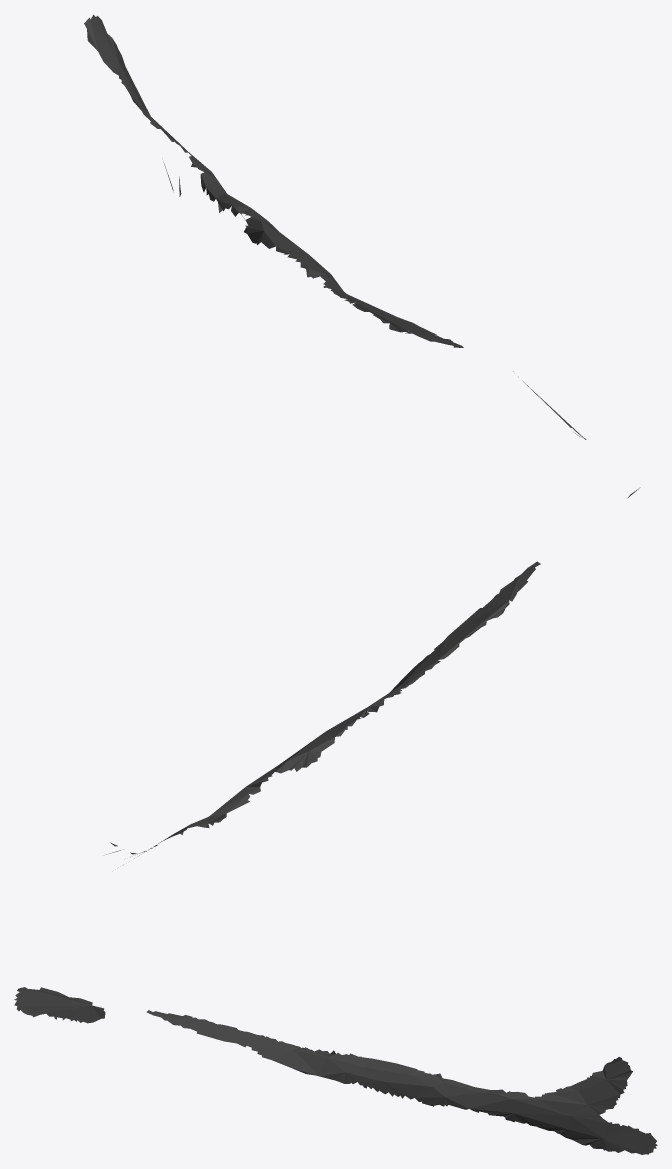
The model's file is vein_lat_dig_palmar.glb.
3 renders of one model, top to bottom at view 1: azimuth 30°, elevation 25°; view 2: azimuth 150°, elevation 25°; view 3: azimuth 270°, elevation 25°, orthographic. The views are drawn at different scales.
Visible parts, largest first — view 1: vein_lat_dig_palmar; view 2: vein_lat_dig_palmar; view 3: vein_lat_dig_palmar.
Part boxes in pixels (box(x1,y1,x2,y2)): vein_lat_dig_palmar: box(84, 14, 586, 439); vein_lat_dig_palmar: box(106, 487, 640, 858); vein_lat_dig_palmar: box(14, 987, 657, 1154).
Size of the model in its own units: 0.0305 by 0.0327 by 0.1615.
1 material, 1 textured.
